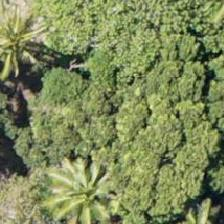coconut_tree: (35, 145, 125, 223), (0, 0, 57, 84)
